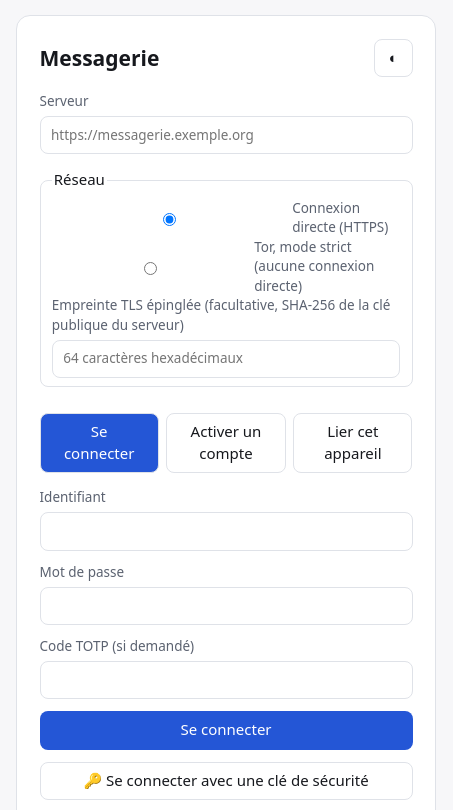
Réseau (desktop) › Tor indisponible : aucune tentative de connexion
Click the radio button labelled "Tor, mode strict (aucune connexion directe)" at (150, 269), box 57,262 -> 244,275
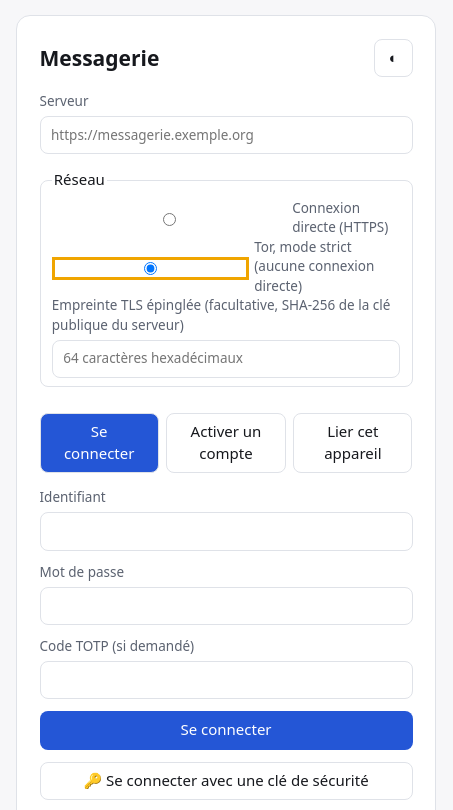
Type "https://srv.onion" into the field labelled "Serveur" at (226, 135), box 40,116 -> 412,154
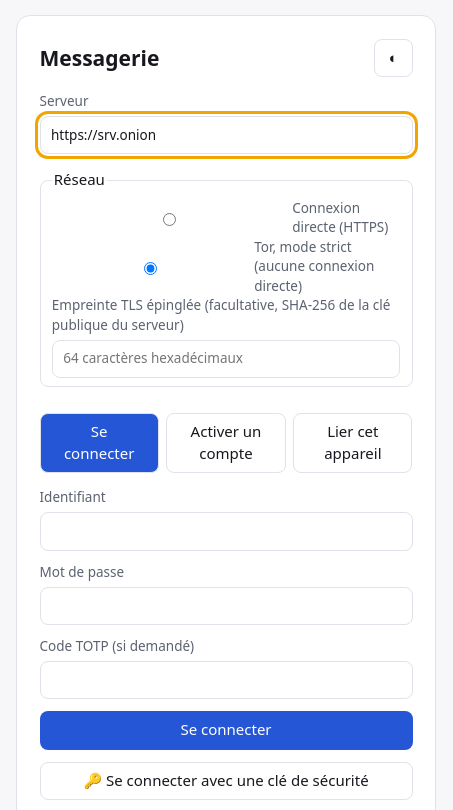
Type "alice" into the field labelled "Identifiant" at (226, 531), box 40,512 -> 412,550
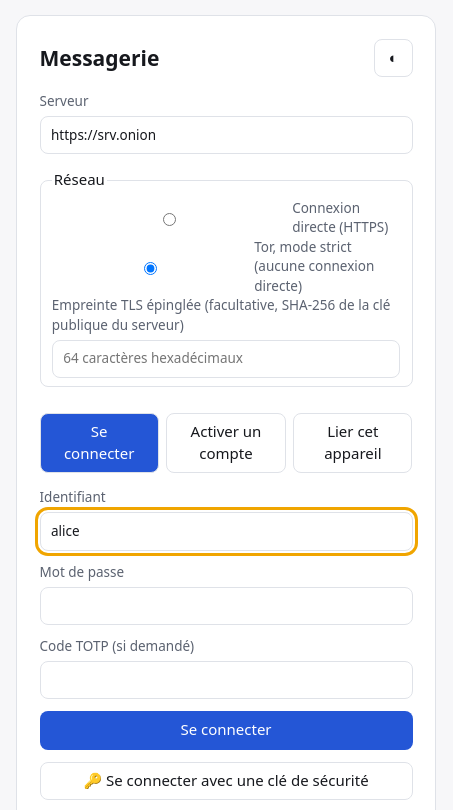
Type "motdepasse-long" into the password field labelled "Mot de passe" at (226, 606), box 40,587 -> 412,625
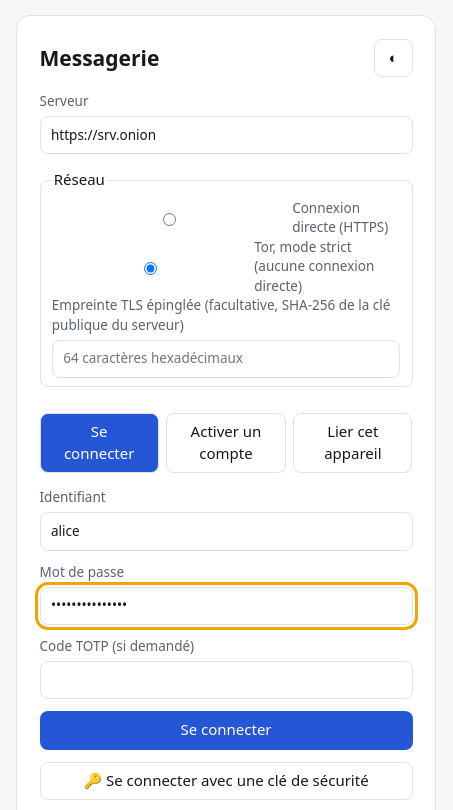
Click the button "Se connecter" at (226, 730), box 40,711 -> 412,750
(page scrolled)
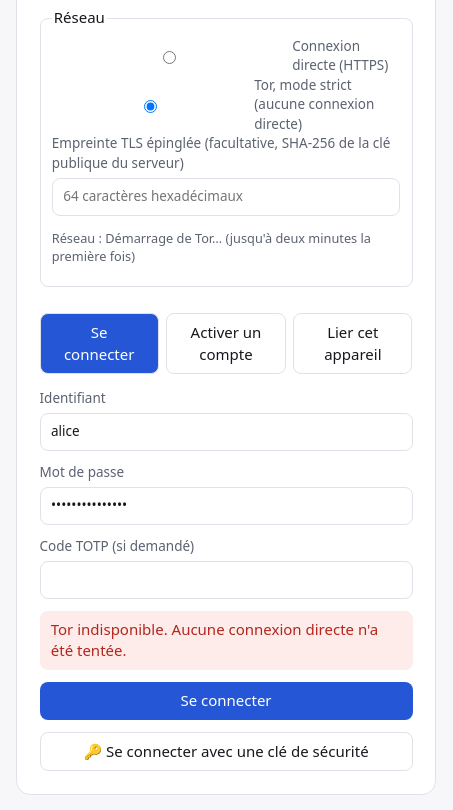
Now the text "Tor indisponible. Aucune connexion directe n'a été tentée." is shown, box 40,611 -> 412,670
